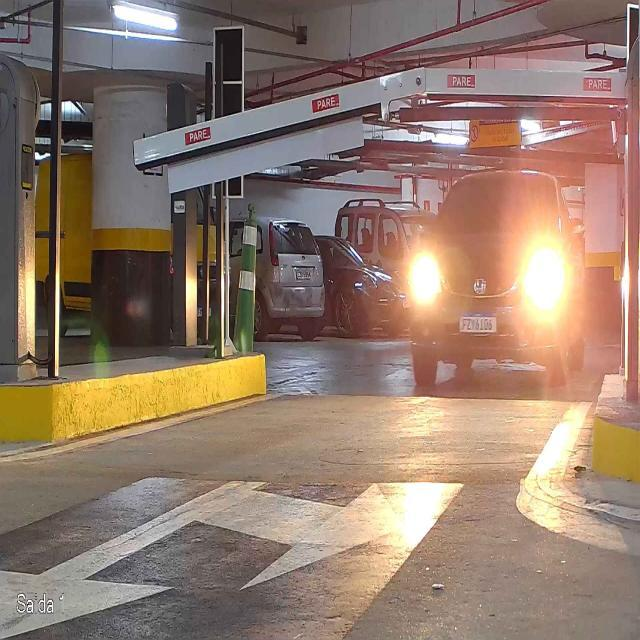mercosul_plate: (457, 312, 498, 334)
